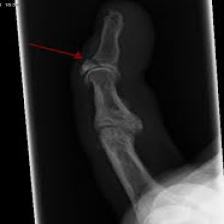avulsion-fracture: (68, 0, 224, 224)
